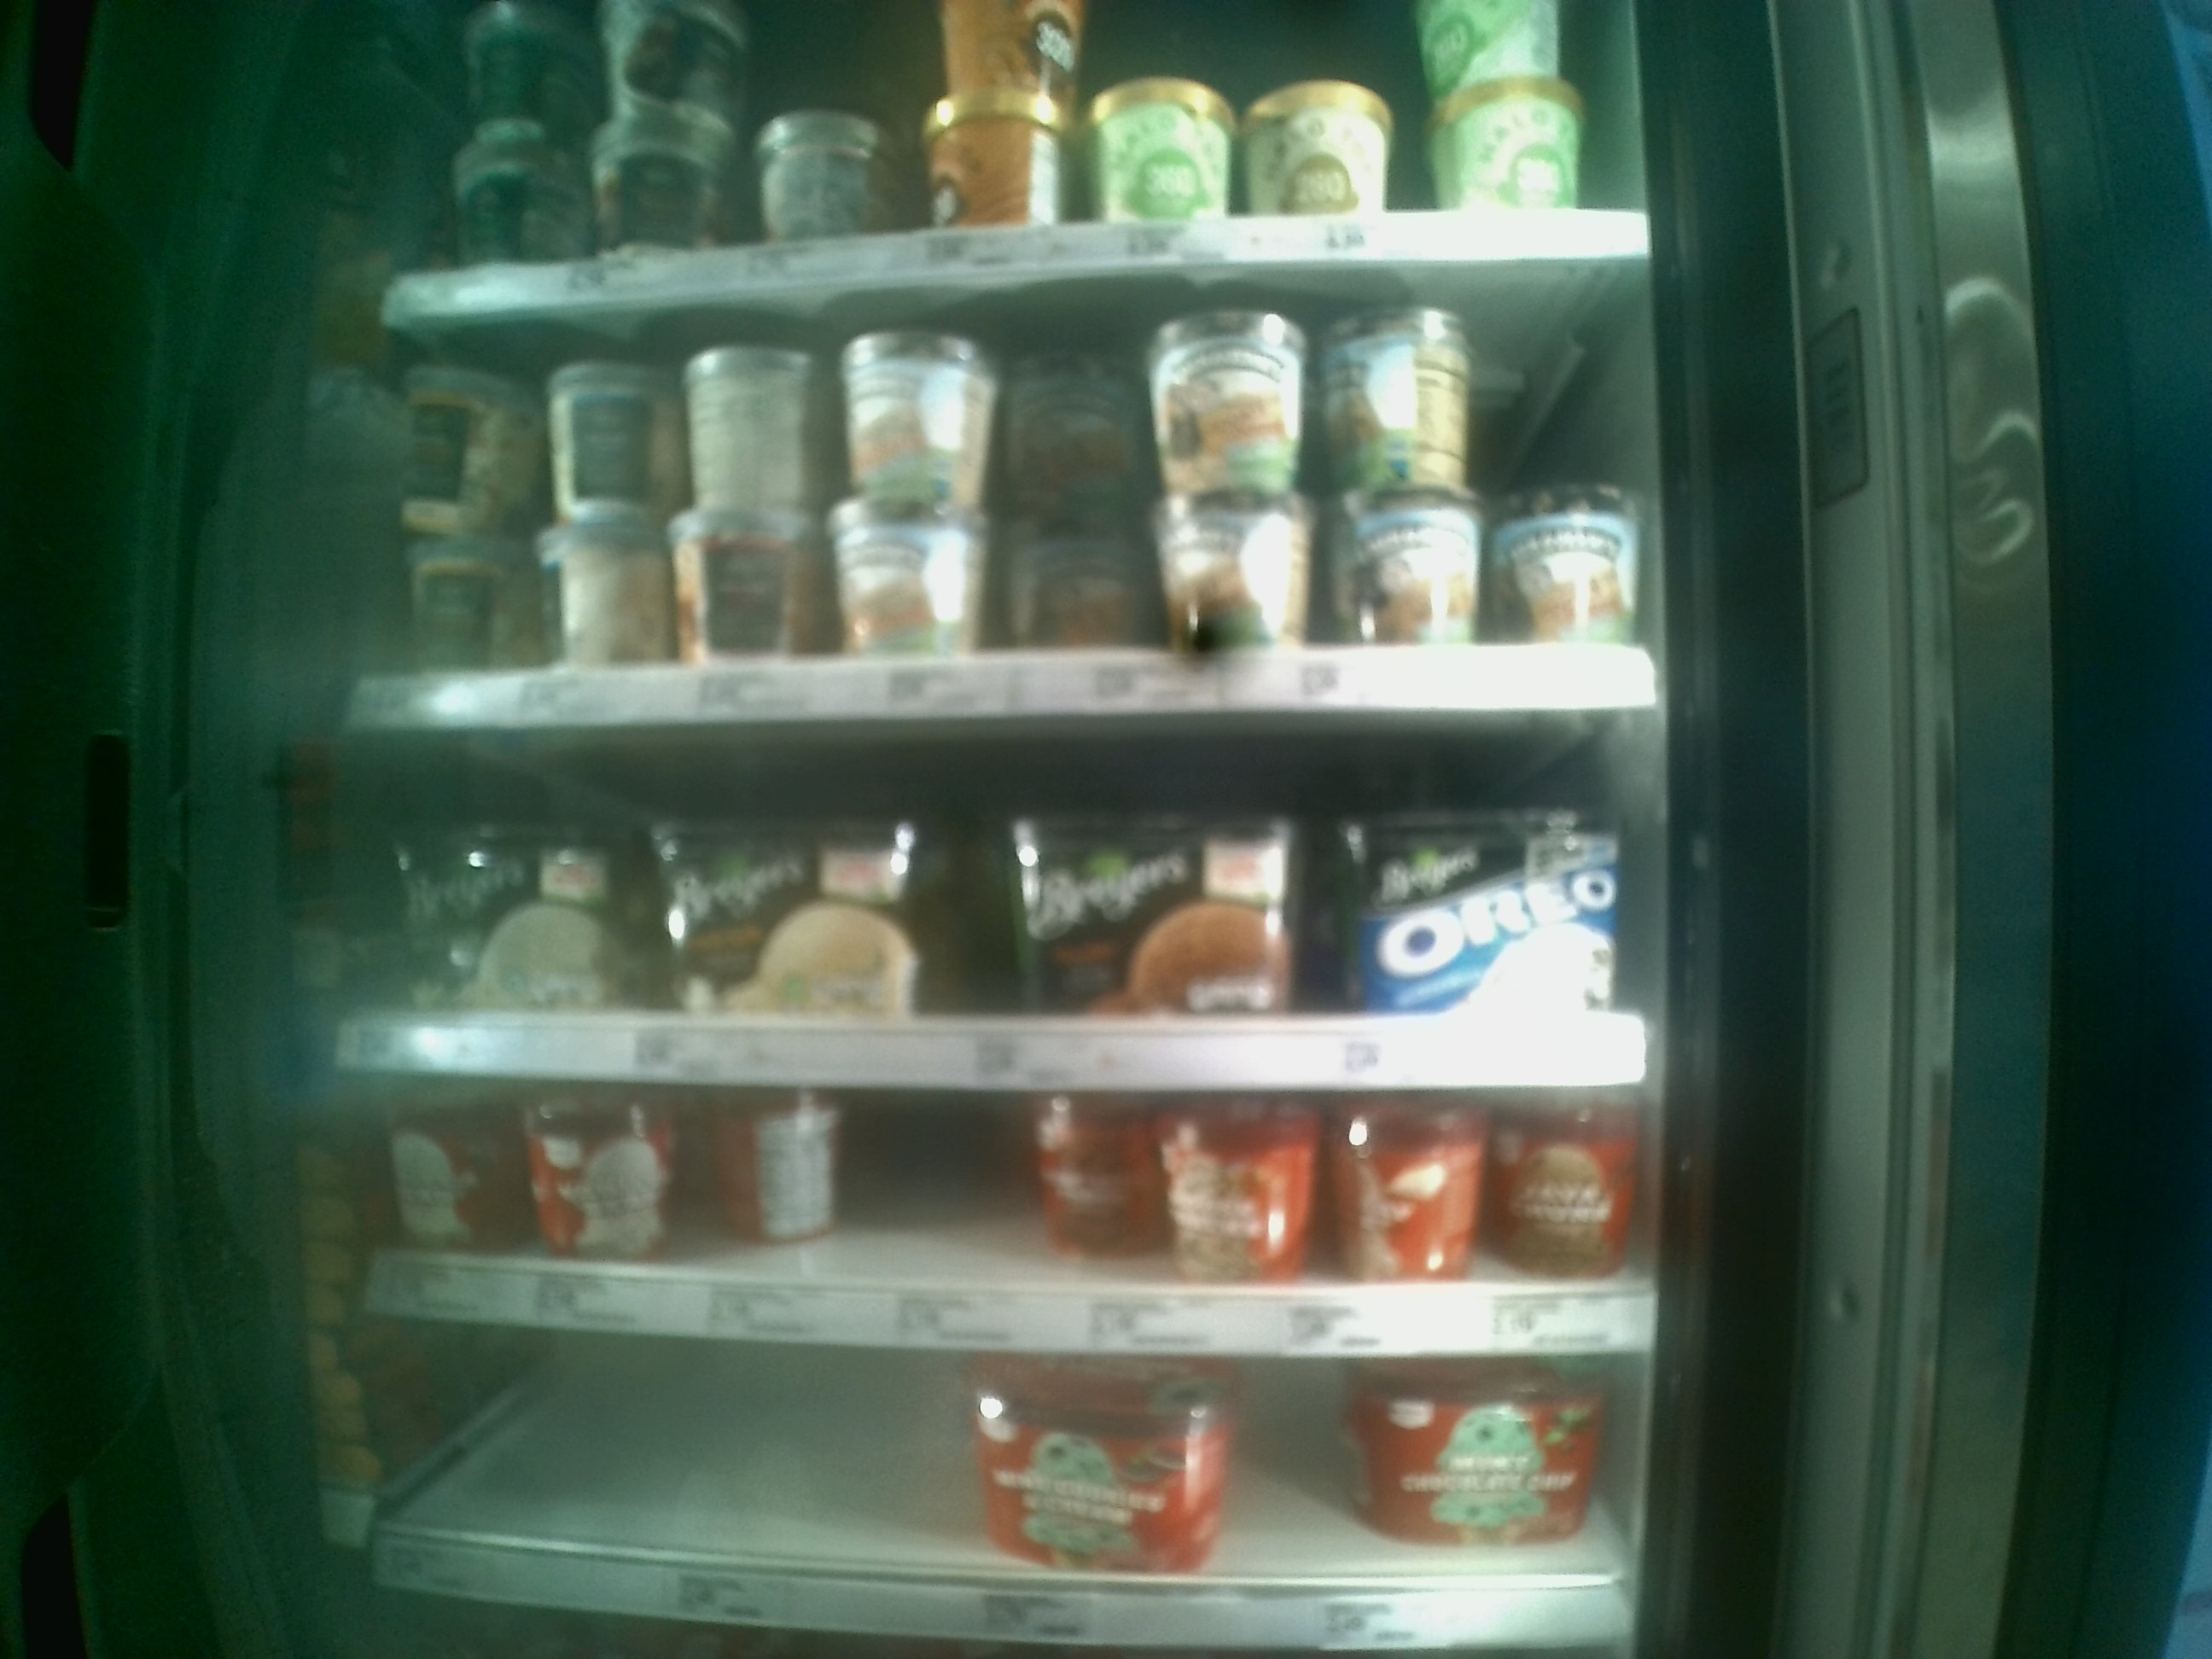shelf: (326, 247, 1656, 727), (315, 732, 1669, 1089), (348, 1321, 1646, 1652), (340, 1086, 1667, 1354)
